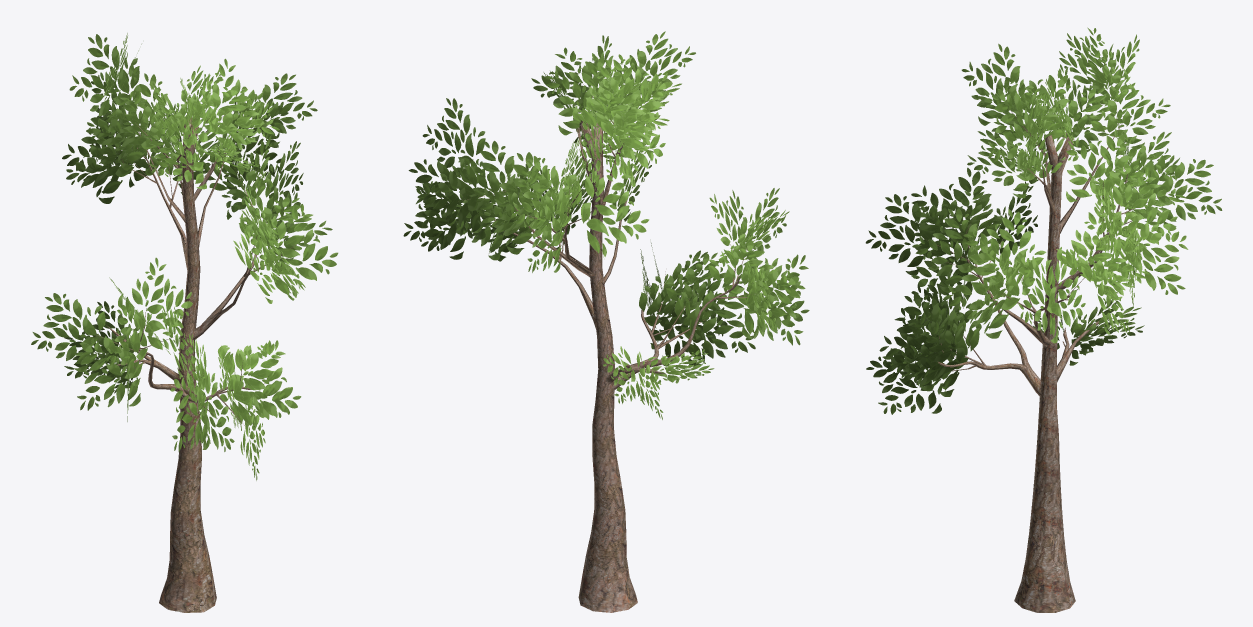
File: Tree1.fbx
3 views of the same model, side by side, from view 1: azimuth 30°, elevation 25°; view 2: azimuth 150°, elevation 25°; view 3: azimuth 270°, elevation 25° (orthographic). The views are drawn at different scales.
Visible parts, largest first — view 1: img_2502_1, bark02_0; view 2: img_2502_1, bark02_0; view 3: img_2502_1, bark02_0.
Part boxes in pixels (bbox=[...]): img_2502_1: bbox=[31, 33, 338, 480]; bark02_0: bbox=[97, 103, 296, 612]; img_2502_1: bbox=[403, 31, 809, 419]; bark02_0: bbox=[464, 83, 749, 612]; img_2502_1: bbox=[865, 27, 1222, 414]; bark02_0: bbox=[928, 97, 1159, 612].
Size of the model in its own units: 379 by 606 by 376.
